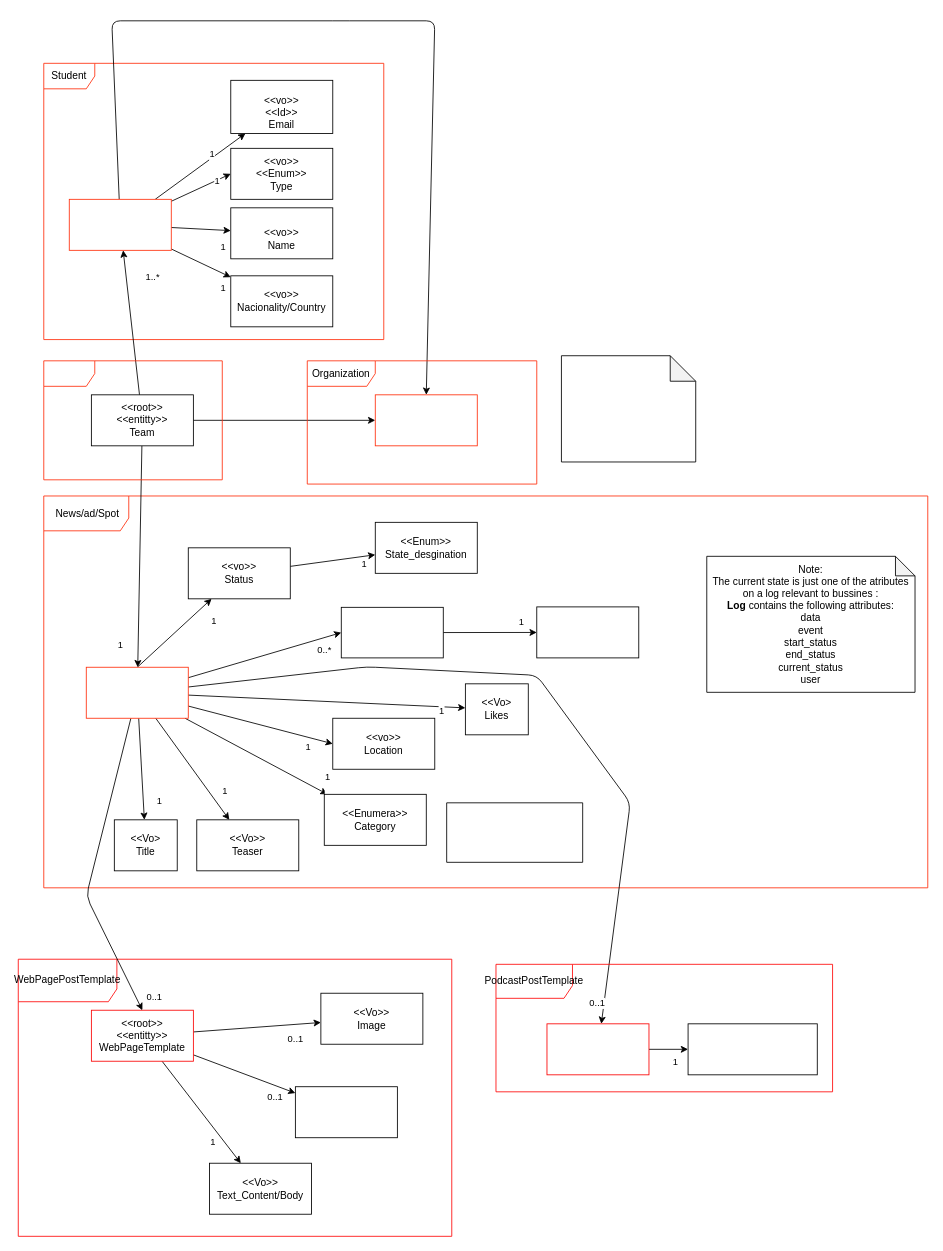
Some shapes in this 943 by 1251 pixel diagram are drawn without their labels. The shapes that lost their labels are listed below. From the top down, each one's centre as x and y in pixels, then its label:
At [119,224]: "<<root>> <<entitty>> Member".
At [132,420]: "Team".
At [425,420]: "<<root>> <<entitty>> Organization".
At [628,408]: "Primeira fase: Organização como uma string".
At [391,632]: "<<vo>> Feedback".
At [587,632]: "<<vo>> validatior".
At [136,692]: "<<root>> <<entitty>> News/Ad/Spot".
At [514,832]: "Note: Good Practice/ Enviromental Problem".
At [597,1049]: "<<root>> <<entitty>> PodcastTemplate".
At [752,1049]: "<<VO>> <<ID>> URL".
At [346,1112]: "<<Vo>> Video".
